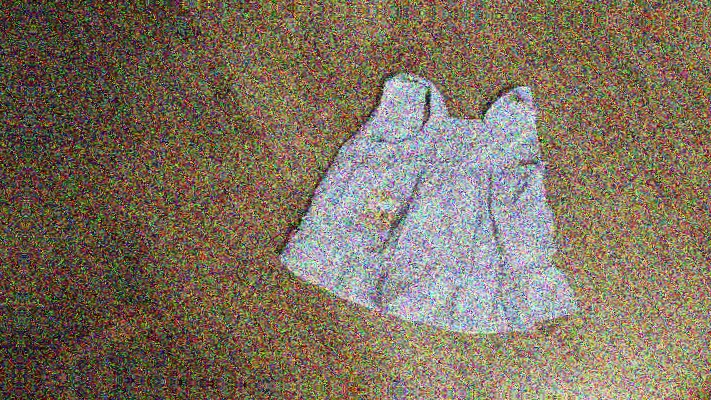Dress: (268, 65, 595, 331)
